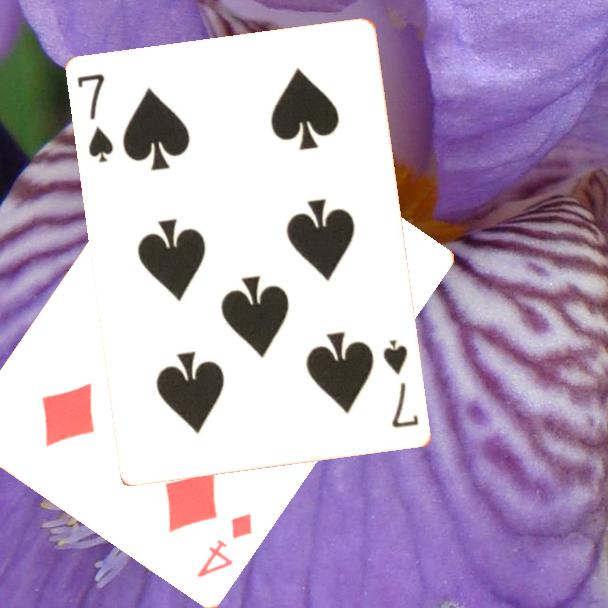d04: (193, 510, 255, 582)
s07: (74, 71, 117, 166), (380, 337, 422, 432)
